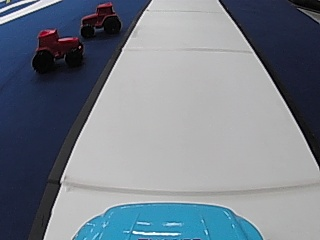tractor: (31, 25, 84, 73), (77, 2, 122, 37)
